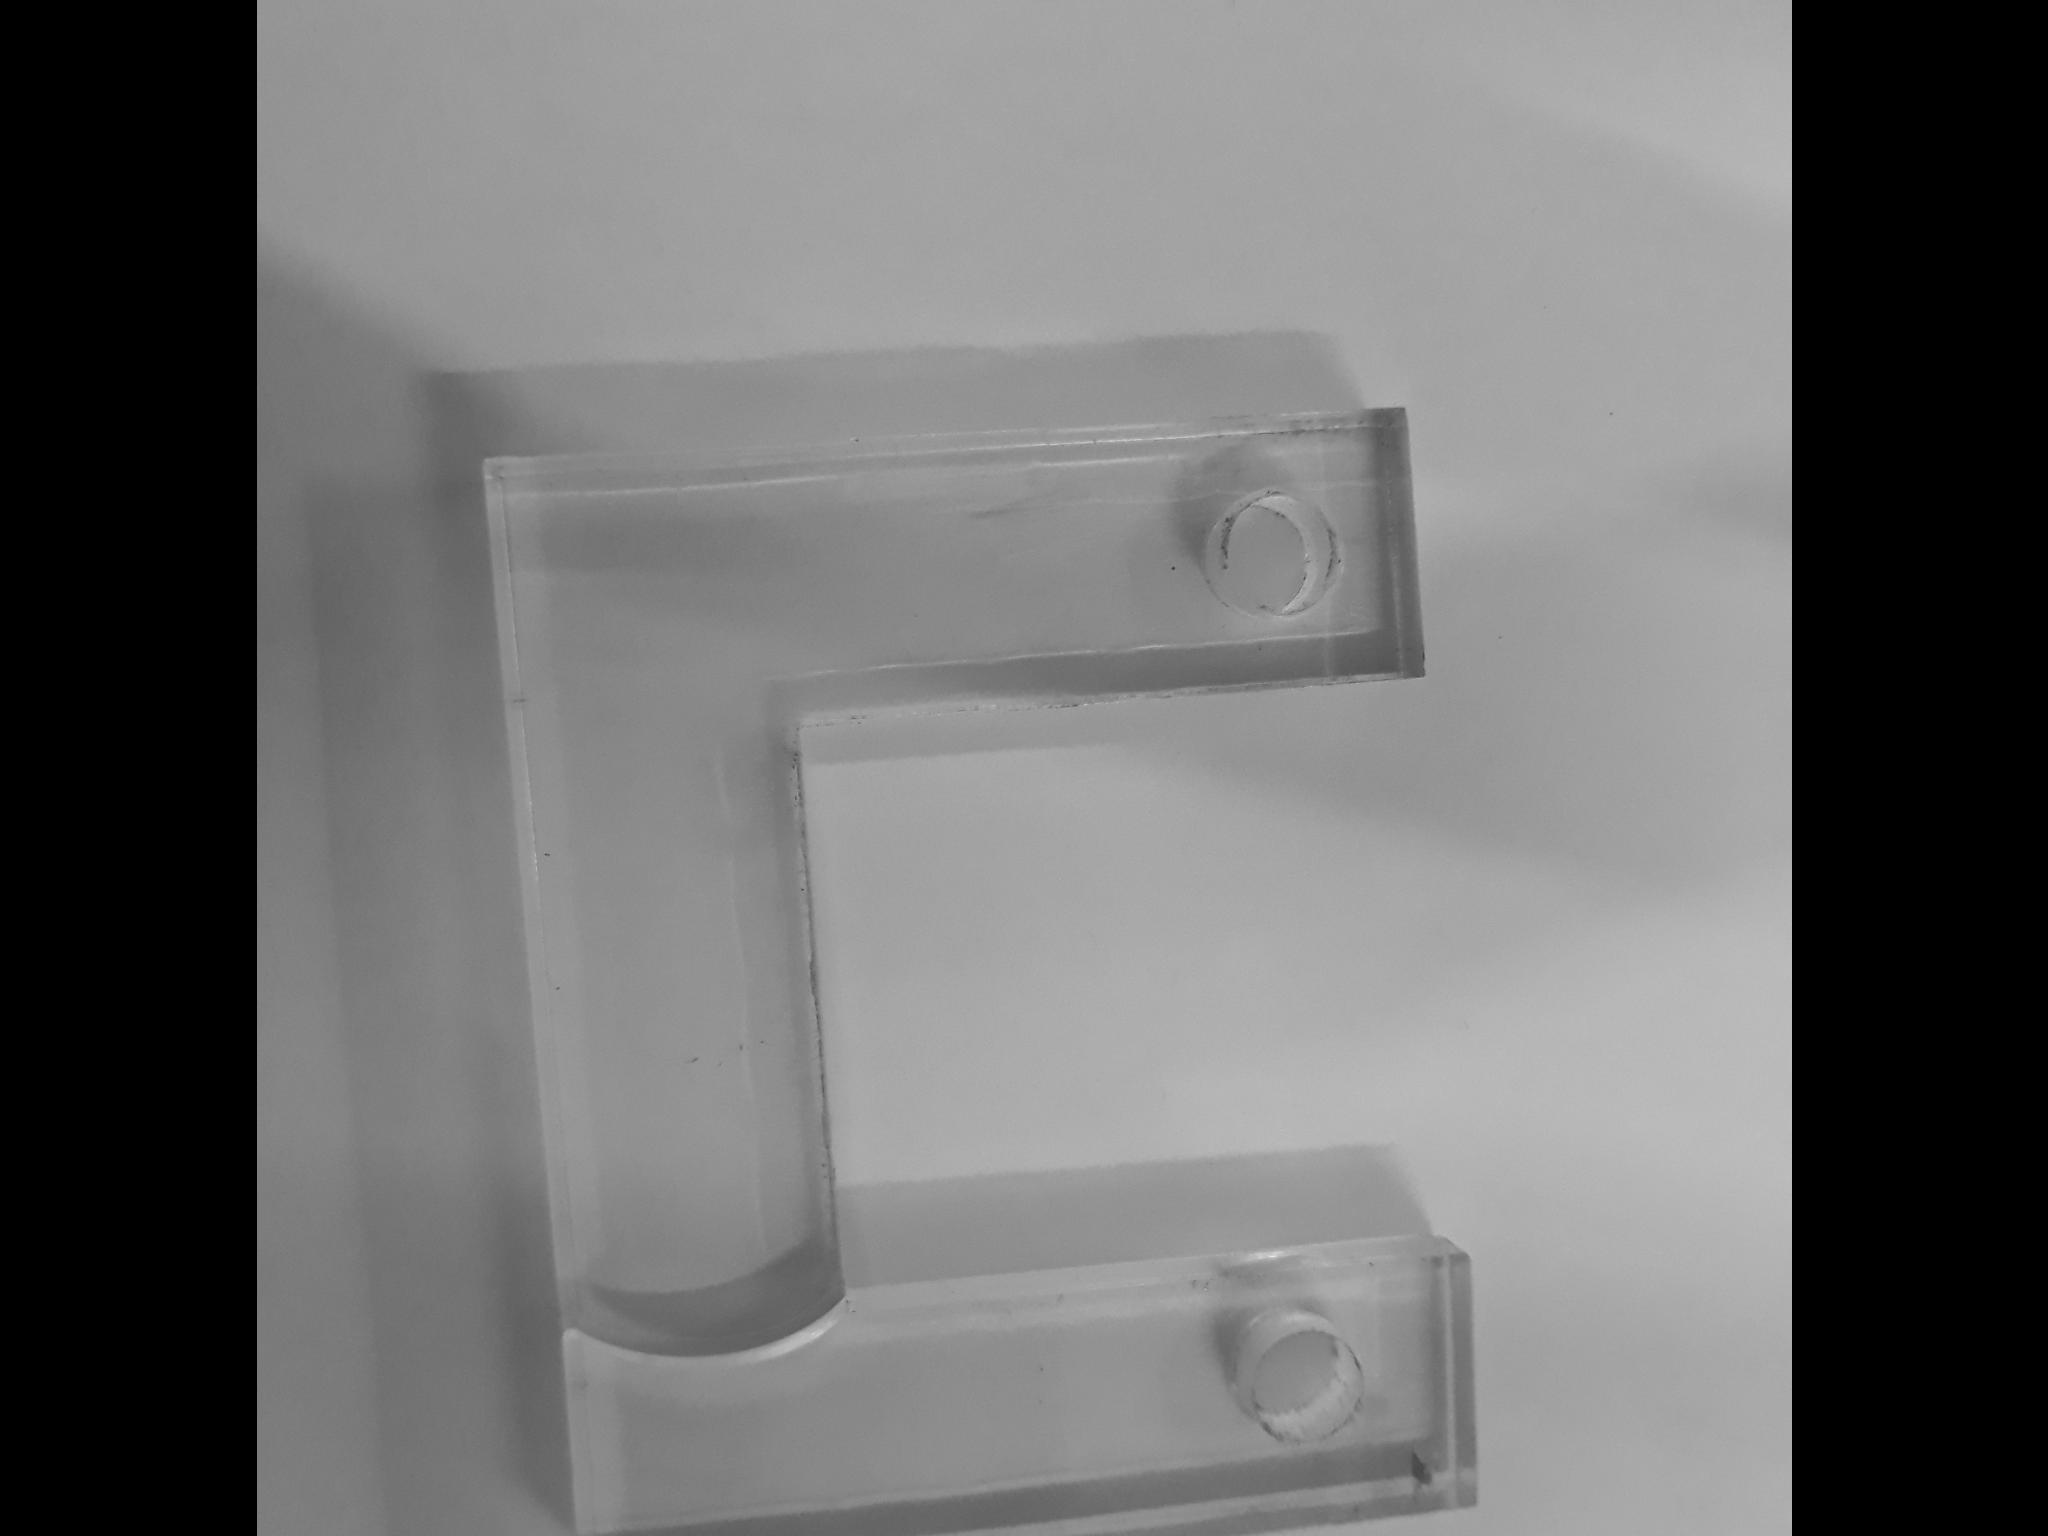Shape_90: (429, 390, 1485, 1536), (782, 689, 1103, 1320)
